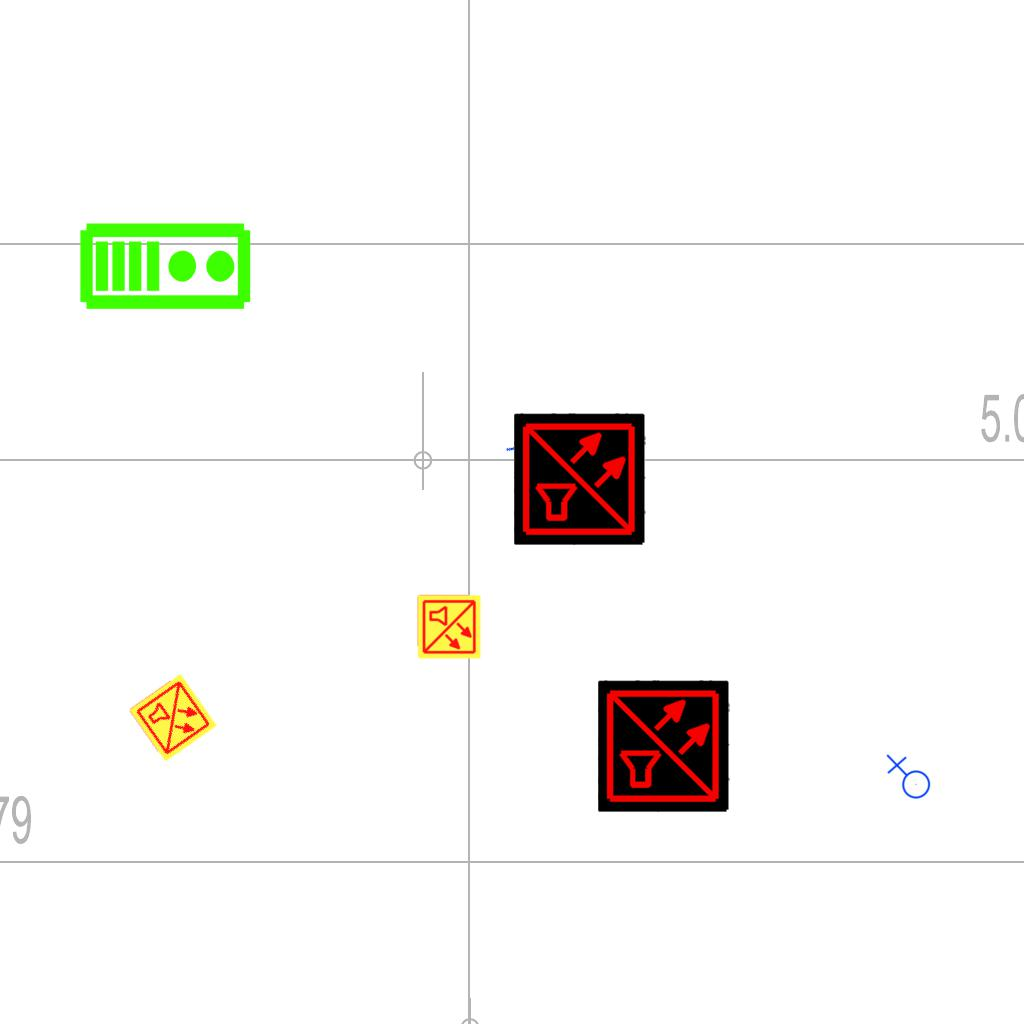Elektroanschluss_allgemein_230V_Geraeteanschlussdose_230V: (503, 413, 572, 480), (884, 754, 931, 803)
Gegensprechanlage_mit_Video: (78, 217, 254, 312)
OKW_Multisensormelder_(Kombination_optischer_Rauch-Kahlenmonoxid_Waerme-Melder): (598, 680, 730, 812), (514, 413, 646, 545), (127, 672, 219, 764), (416, 594, 482, 660)
